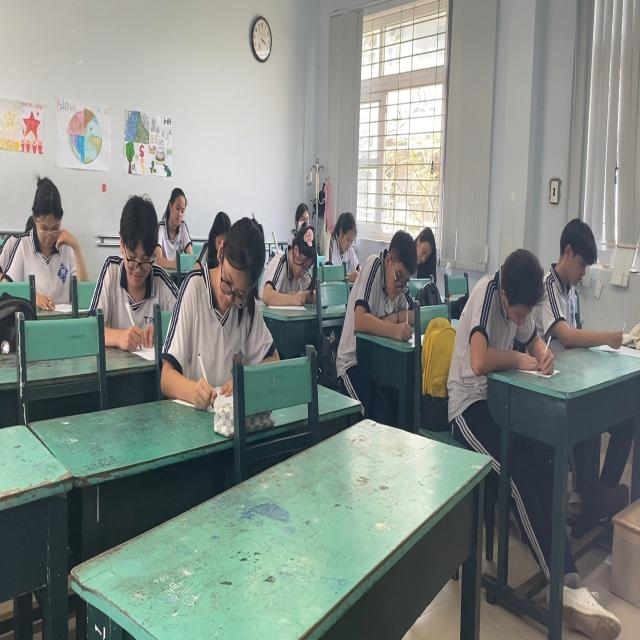not_cheating: (188, 213, 266, 380), (542, 210, 624, 362), (456, 248, 550, 379), (99, 196, 174, 334), (17, 176, 77, 289), (350, 231, 418, 327), (266, 217, 322, 303), (165, 176, 199, 272), (325, 200, 361, 268), (402, 227, 443, 272)
